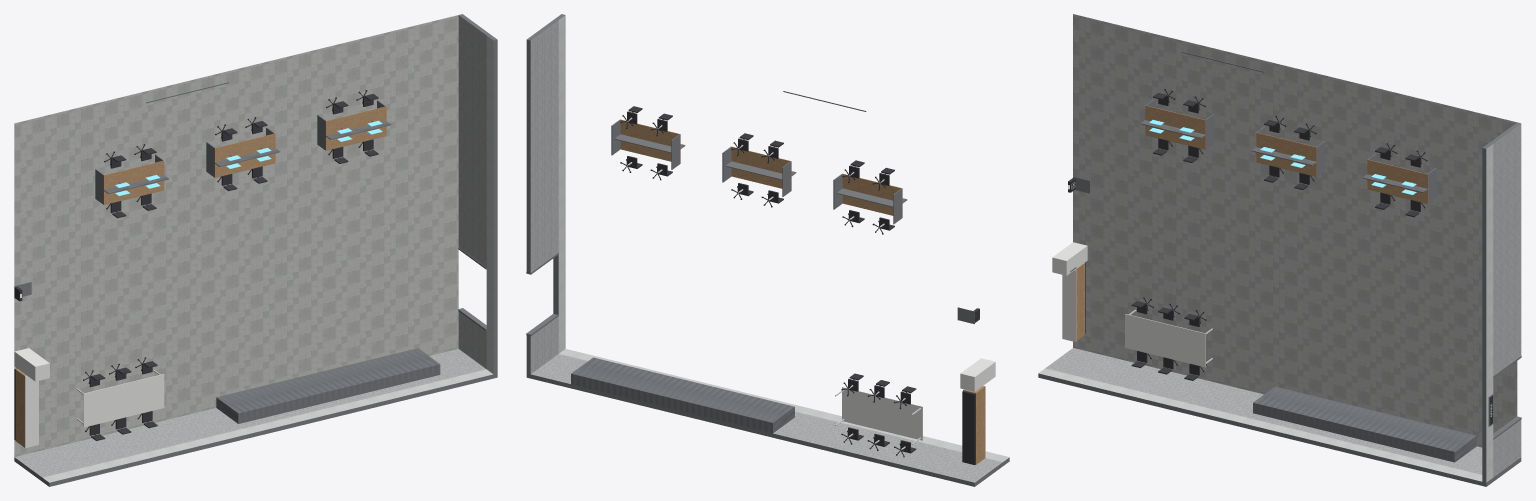
Rendered from office.gltf.
3 renders of one model, left to right at view 1: azimuth 30°, elevation 25°; view 2: azimuth 150°, elevation 25°; view 3: azimuth 330°, elevation 25°, orthographic.
Parts seen in each view (by area): view 1: office; view 2: office; view 3: office.
Part boxes in pixels (x1,y1,x2,y2): office: (14, 14, 497, 486); office: (526, 14, 1009, 486); office: (1038, 14, 1521, 486).
Size of the model in its own units: 22.26 by 16 by 3.
15 materials, 7 textured.
